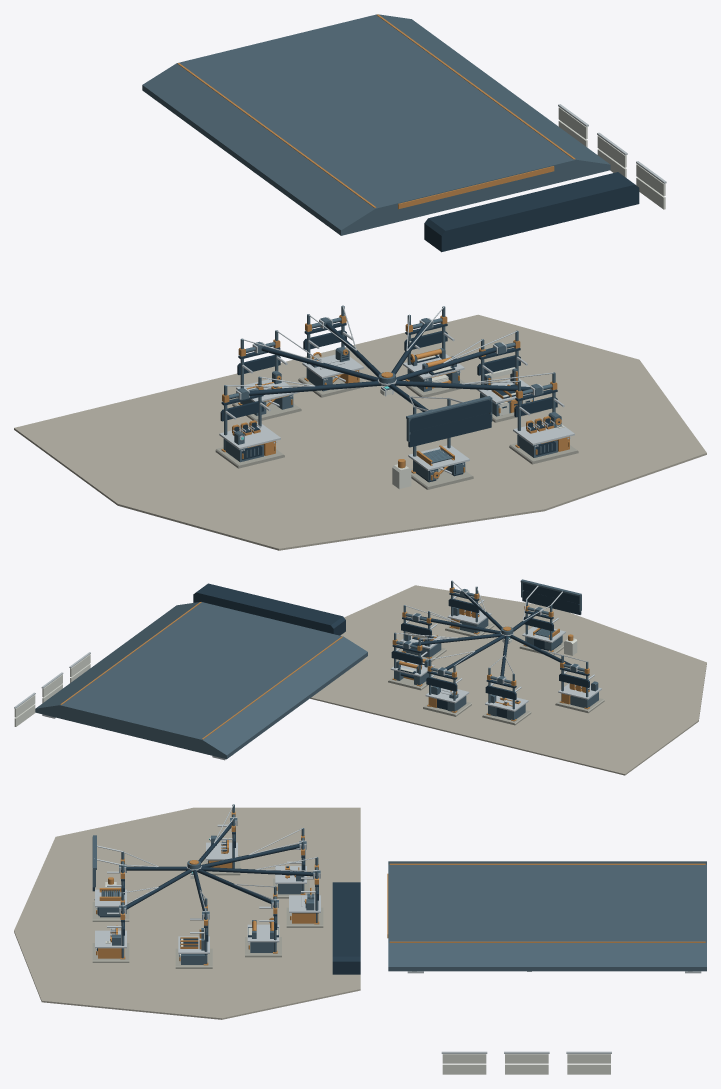
Rendered from coaster-entrance-workshop.glb.
The picture shows the model from 3 angles, top to bottom: view 1: azimuth 30°, elevation 25°; view 2: azimuth 150°, elevation 25°; view 3: azimuth 270°, elevation 25°; orthographic projection. The views are drawn at different scales.
Parts seen in each view (by area): view 1: Station roof, structure and paved forecourt · Role 17 · 0.46, Station roof, structure and paved forecourt · Role 1 · 0.084, Workshop static body · Role 0 · 0.02029 0.04817 0.07619, Station roof, structure and paved forecourt · Role 6 · 0.020, Workshop static body · Role 5 · 0.53948 0.60383 0.6376, Workshop static body · Role 13 · 0.08438 0.14703 0.1912, Workshop static body · Role 0 · 0.39676 0.40198 0.3564, Workshop static body · Role 0 · 0.08438 0.14703 0.1912, Station roof, structure and paved forecourt · Role 2 · 0.545, Station roof, structure and paved forecourt · Role 13 · 0.69, Workshop static body · Role 0 · 0.53948 0.60383 0.6376, Workshop static body · Role 0 · 0.54572 0.26225 0.08022 (+1 smaller); view 2: Station roof, structure and paved forecourt · Role 17 · 0.46, Station roof, structure and paved forecourt · Role 1 · 0.084, Workshop static body · Role 0 · 0.02029 0.04817 0.07619, Station roof, structure and paved forecourt · Role 6 · 0.020, Workshop static body · Role 13 · 0.08438 0.14703 0.1912, Workshop static body · Role 5 · 0.53948 0.60383 0.6376, Workshop static body · Role 0 · 0.39676 0.40198 0.3564, Workshop static body · Role 0 · 0.08438 0.14703 0.1912, Station roof, structure and paved forecourt · Role 13 · 0.69, Workshop static body · Role 0 · 0.53948 0.60383 0.6376, Workshop static body · Role 0 · 0.54572 0.26225 0.08022, Station roof, structure and paved forecourt · Role 2 · 0.545 (+1 smaller); view 3: Station roof, structure and paved forecourt · Role 17 · 0.46, Station roof, structure and paved forecourt · Role 1 · 0.084, Workshop static body · Role 0 · 0.02029 0.04817 0.07619, Station roof, structure and paved forecourt · Role 13 · 0.69, Station roof, structure and paved forecourt · Role 6 · 0.020, Workshop static body · Role 5 · 0.53948 0.60383 0.6376, Workshop static body · Role 0 · 0.39676 0.40198 0.3564, Workshop static body · Role 13 · 0.08438 0.14703 0.1912, Workshop static body · Role 0 · 0.53948 0.60383 0.6376, Station roof, structure and paved forecourt · Role 2 · 0.545, Workshop static body · Role 0 · 0.08438 0.14703 0.1912, Workshop static body · Role 0 · 0.54572 0.26225 0.08022 (+2 smaller).
Boxes of the visible parts, <box> form: Station roof, structure and paved forecourt · Role 17 · 0.46: <box>14,314,706,550</box>; Station roof, structure and paved forecourt · Role 1 · 0.084: <box>142,14,610,235</box>; Workshop static body · Role 0 · 0.02029 0.04817 0.07619: <box>220,322,562,458</box>; Station roof, structure and paved forecourt · Role 6 · 0.020: <box>424,172,639,252</box>; Workshop static body · Role 5 · 0.53948 0.60383 0.6376: <box>219,354,574,470</box>; Workshop static body · Role 13 · 0.08438 0.14703 0.1912: <box>223,317,561,462</box>; Workshop static body · Role 0 · 0.39676 0.40198 0.3564: <box>215,376,578,489</box>; Workshop static body · Role 0 · 0.08438 0.14703 0.1912: <box>224,305,555,471</box>; Station roof, structure and paved forecourt · Role 2 · 0.545: <box>177,14,575,209</box>; Station roof, structure and paved forecourt · Role 13 · 0.69: <box>558,107,665,209</box>; Workshop static body · Role 0 · 0.53948 0.60383 0.6376: <box>225,306,564,462</box>; Workshop static body · Role 0 · 0.54572 0.26225 0.08022: <box>221,315,569,473</box>; Station roof, structure and paved forecourt · Role 17 · 0.46: <box>310,585,706,775</box>; Station roof, structure and paved forecourt · Role 1 · 0.084: <box>35,602,367,759</box>; Workshop static body · Role 0 · 0.02029 0.04817 0.07619: <box>391,583,589,718</box>; Station roof, structure and paved forecourt · Role 6 · 0.020: <box>193,583,345,635</box>; Workshop static body · Role 13 · 0.08438 0.14703 0.1912: <box>394,579,598,719</box>; Workshop static body · Role 5 · 0.53948 0.60383 0.6376: <box>390,610,601,711</box>; Workshop static body · Role 0 · 0.39676 0.40198 0.3564: <box>388,623,604,725</box>; Workshop static body · Role 0 · 0.08438 0.14703 0.1912: <box>394,580,588,719</box>; Station roof, structure and paved forecourt · Role 13 · 0.69: <box>14,654,90,726</box>; Workshop static body · Role 0 · 0.53948 0.60383 0.6376: <box>395,581,594,691</box>; Workshop static body · Role 0 · 0.54572 0.26225 0.08022: <box>392,587,589,721</box>; Station roof, structure and paved forecourt · Role 2 · 0.545: <box>60,602,342,739</box>; Station roof, structure and paved forecourt · Role 17 · 0.46: <box>14,807,360,1019</box>; Station roof, structure and paved forecourt · Role 1 · 0.084: <box>388,861,706,971</box>; Workshop static body · Role 0 · 0.02029 0.04817 0.07619: <box>92,822,318,956</box>; Station roof, structure and paved forecourt · Role 13 · 0.69: <box>442,1054,610,1074</box>; Station roof, structure and paved forecourt · Role 6 · 0.020: <box>332,882,360,974</box>; Workshop static body · Role 5 · 0.53948 0.60383 0.6376: <box>95,842,320,953</box>; Workshop static body · Role 0 · 0.39676 0.40198 0.3564: <box>92,855,323,968</box>; Workshop static body · Role 13 · 0.08438 0.14703 0.1912: <box>92,818,320,964</box>; Workshop static body · Role 0 · 0.53948 0.60383 0.6376: <box>94,804,316,933</box>; Station roof, structure and paved forecourt · Role 2 · 0.545: <box>387,863,705,942</box>; Workshop static body · Role 0 · 0.08438 0.14703 0.1912: <box>121,804,318,958</box>; Workshop static body · Role 0 · 0.54572 0.26225 0.08022: <box>96,811,319,965</box>.
Size of the model in its own units: 46.97 by 7.43 by 50.
